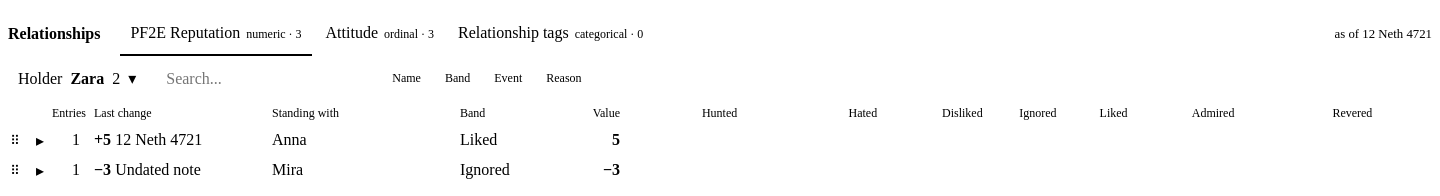
Test: RelationshipsView › a track with no relationships shows the '/' empty state
Click the tab "Relationship tags categorical · 0": x=551, y=34 [448,12,653,56]
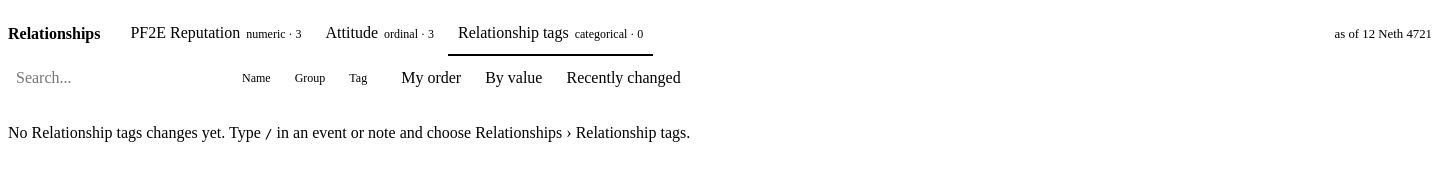
Now the element with class "rel-empty" shows "No Relationship tags changes yet. Type / in an event or note and choose Relationships › Relationship tags.", box [8,124,690,141]
Now the text "/" is shown, box [265,126,273,141]
